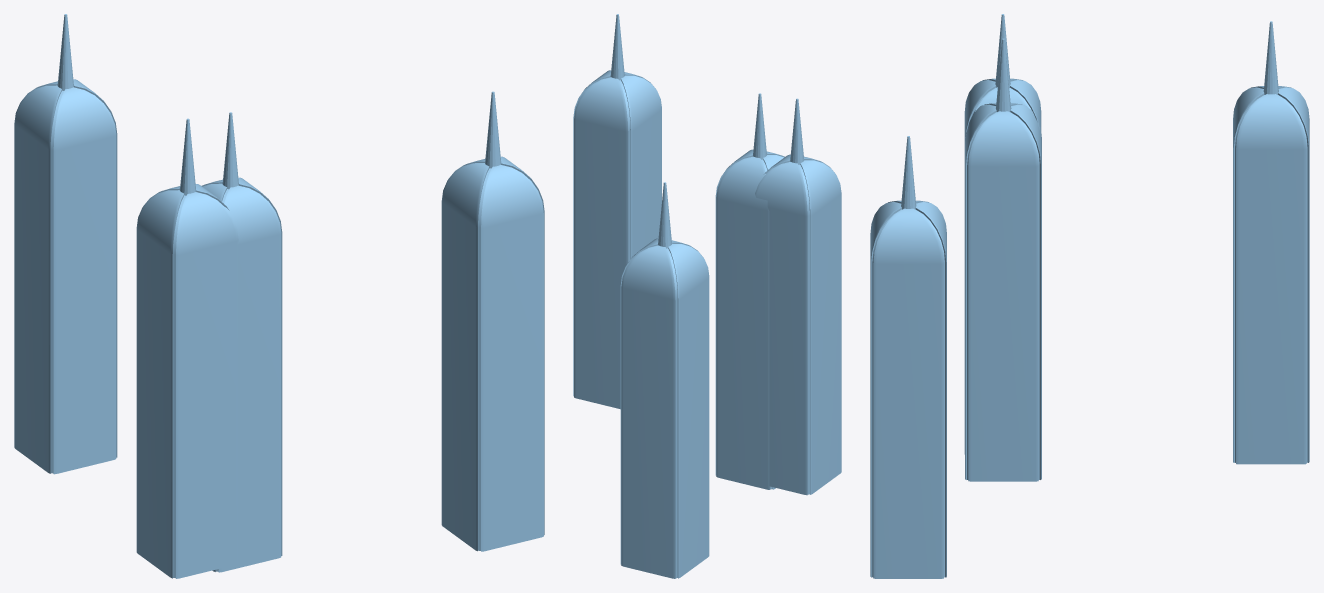
File: B3Variant 1.fbx
3 views of the same model, side by side, from view 1: azimuth 30°, elevation 25°; view 2: azimuth 150°, elevation 25°; view 3: azimuth 270°, elevation 25° (orthographic). The views are drawn at different scales.
Parts seen in each view (by area): view 1: B3__2_, B3__3_, B3__4_, B3__1_; view 2: B3__3_, B3__4_, B3__2_, B3__1_; view 3: B3__3_, B3__2_, B3__1_, B3__4_.
Part boxes in pixels (box(x1,y1,x2,y2)): B3__2_: box(441, 91, 544, 551); B3__3_: box(14, 14, 117, 474); B3__4_: box(136, 118, 238, 578); B3__1_: box(202, 112, 282, 572); B3__3_: box(620, 182, 709, 578); B3__4_: box(755, 98, 841, 495); B3__2_: box(573, 14, 661, 409); B3__1_: box(715, 93, 784, 489); B3__3_: box(1233, 21, 1309, 464); B3__2_: box(870, 136, 946, 578); B3__1_: box(965, 38, 1041, 481); B3__4_: box(964, 14, 1041, 454).
Size of the model in its own units: 7937 by 10323 by 9547.
